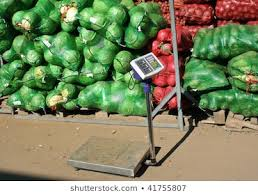Industrial Scale: (66, 52, 165, 179)
